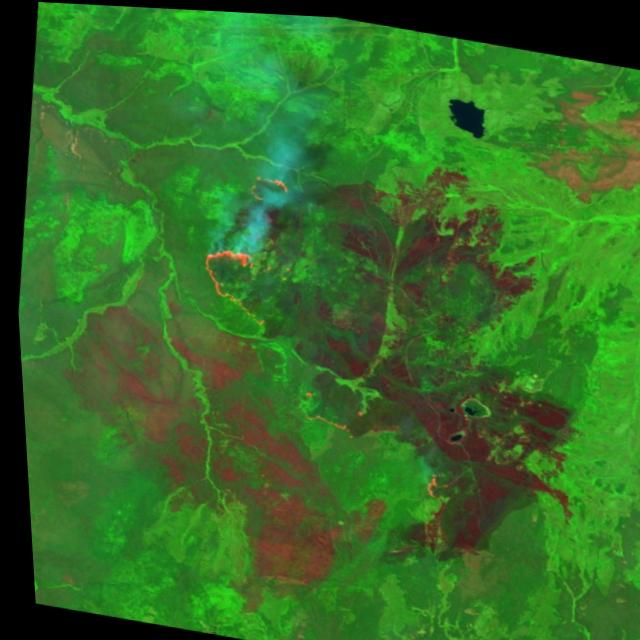fire: (182, 156, 299, 316)
